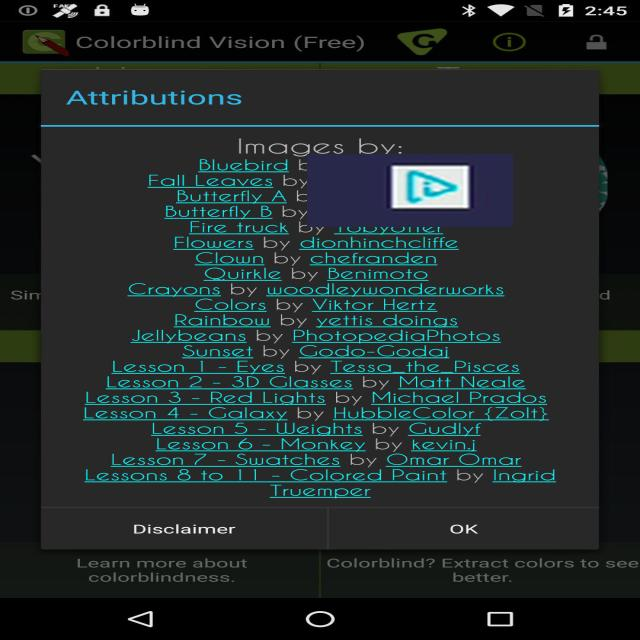sneaking: (307, 154, 513, 227)
